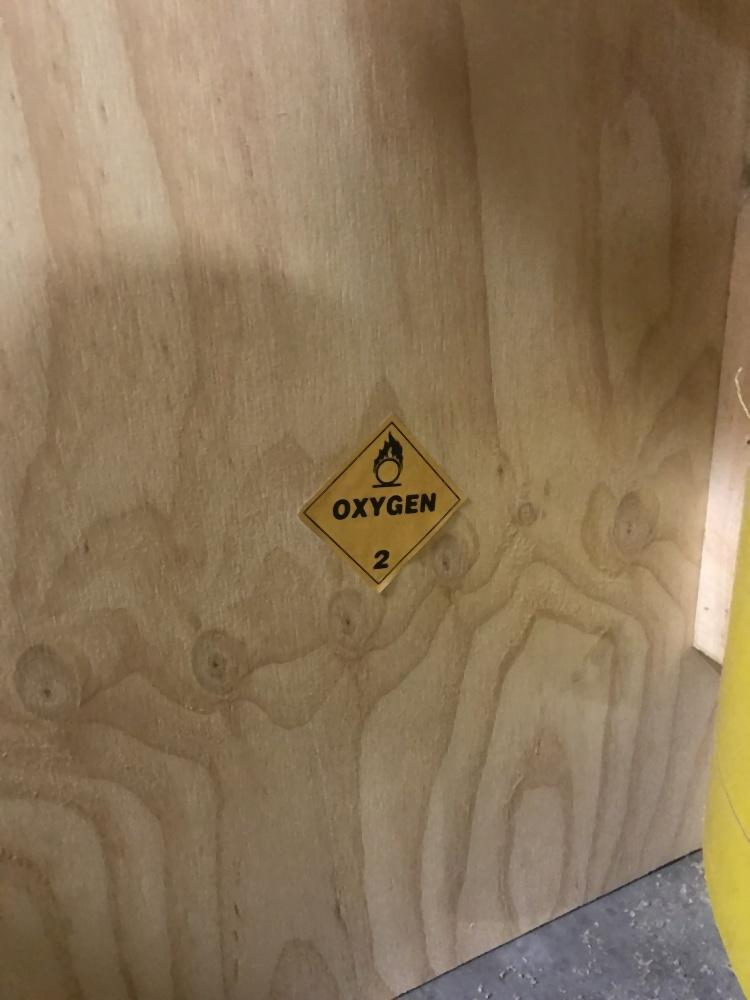oxidizer: (296, 414, 465, 597)
